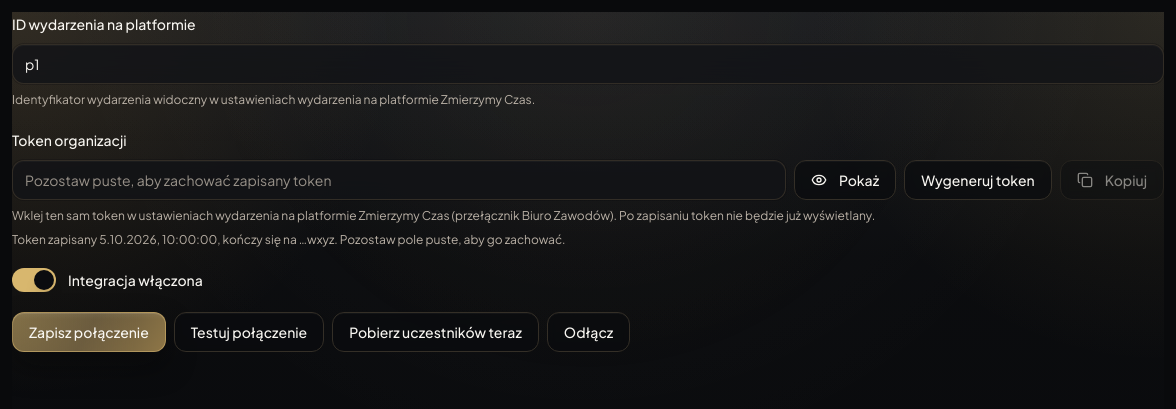
Scenario: EventPlatformConnectionSection › shows remaining seconds when the test is throttled
The width and height of the screenshot is (1176, 409).
Step 1. Click the button "Testuj połączenie" → (249,332), box [174,312,324,352]
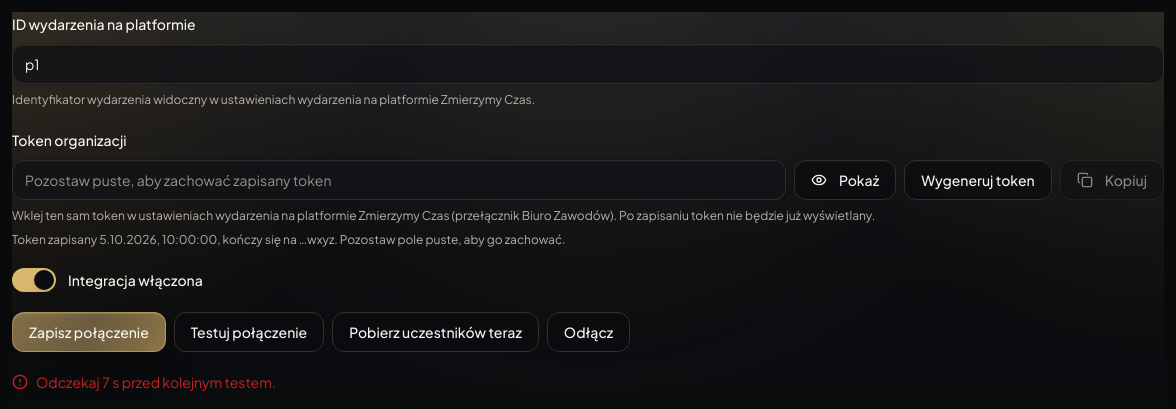
Expected: the text "Odczekaj 7 s przed kolejnym testem." is shown, [36,372,276,392]
